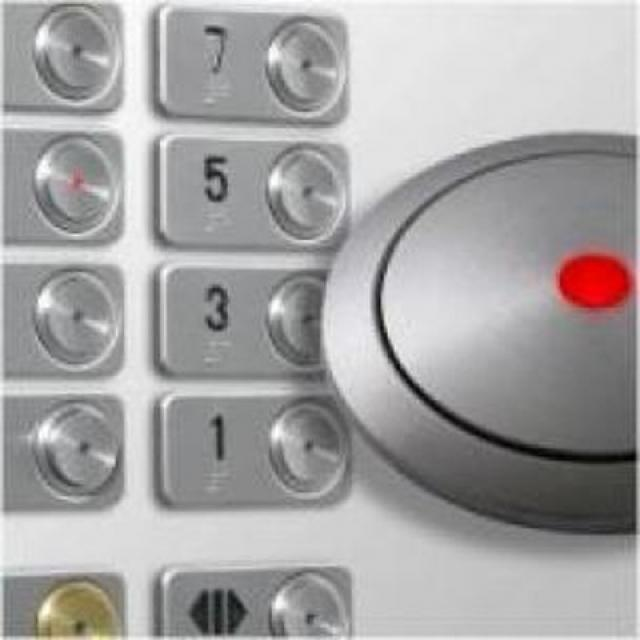1: (147, 383, 353, 512)
3: (148, 258, 337, 382)
5: (148, 131, 356, 253)
7: (152, 0, 356, 129)
empty: (0, 387, 128, 516), (0, 124, 127, 247), (0, 0, 129, 118), (0, 259, 127, 377)
open: (151, 553, 357, 639)
